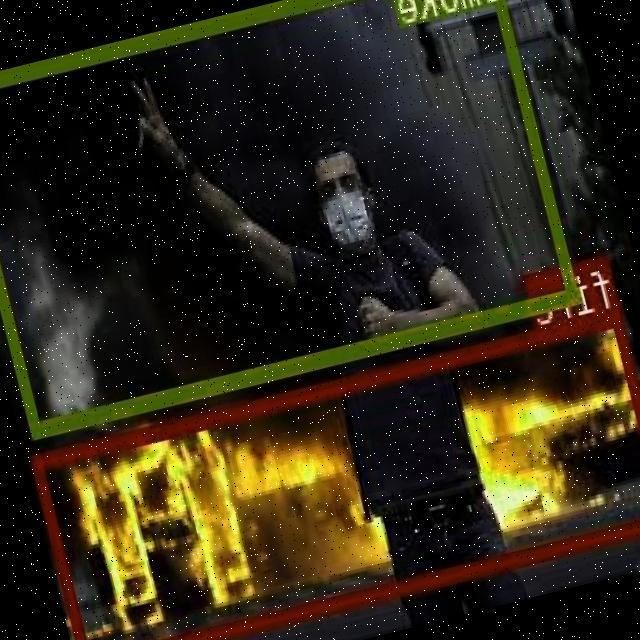fire: (31, 306, 640, 640)
smoke: (0, 0, 581, 436)
